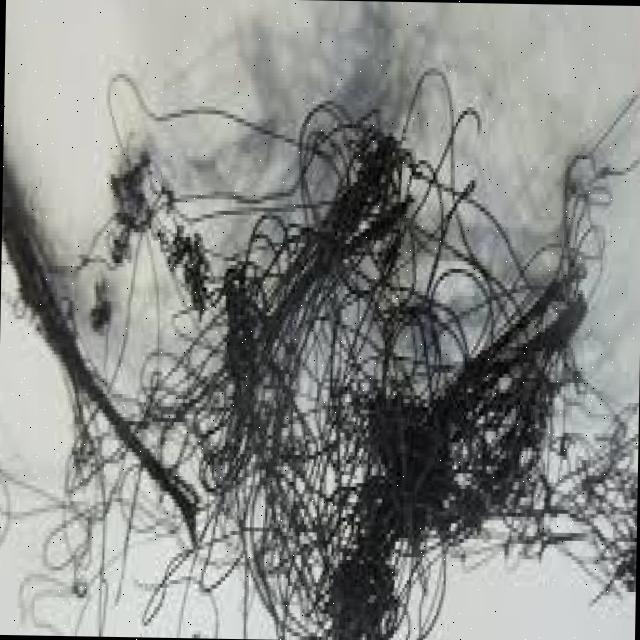spaghetti: (108, 64, 627, 602)
